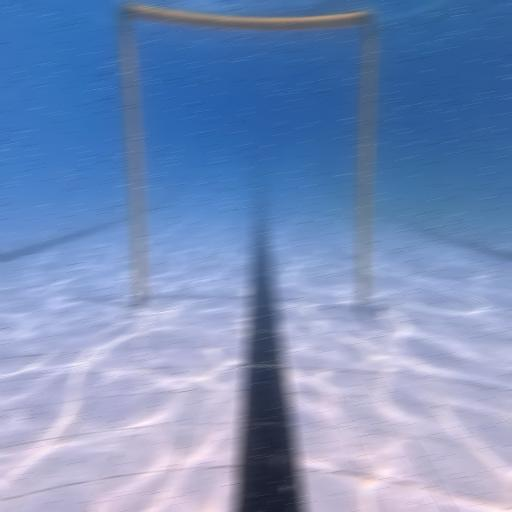gate: (118, 2, 385, 316)
